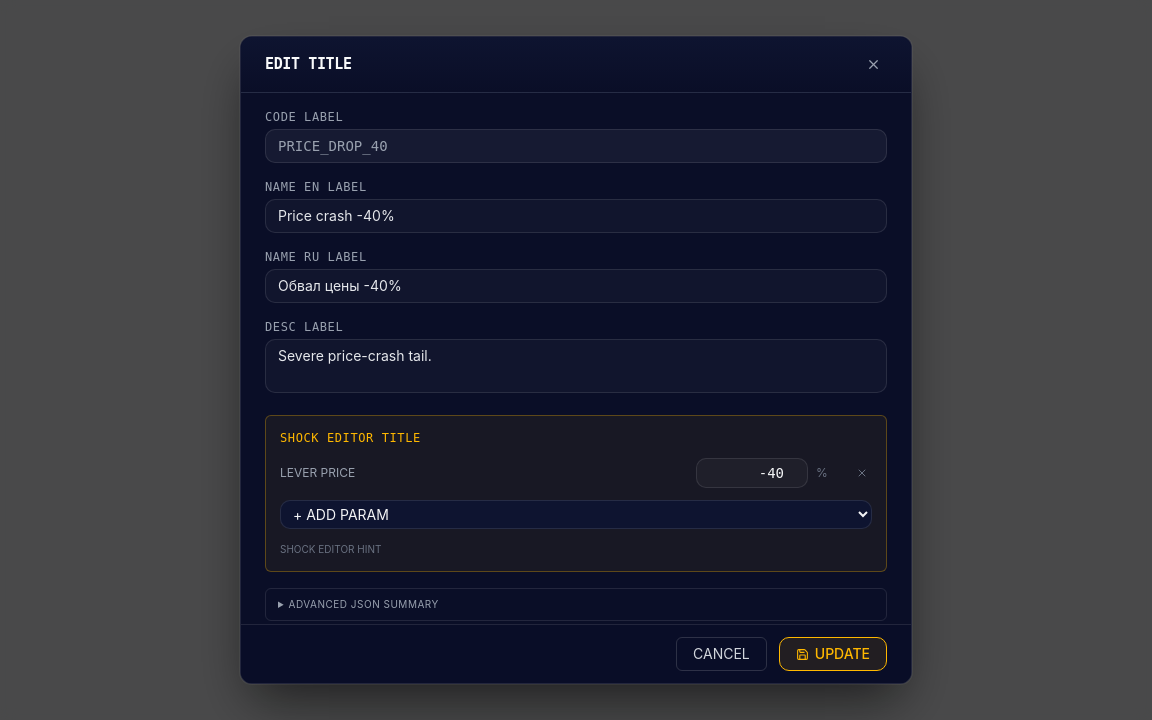
Test: ScenarioFormModal — shock scenarios are editable (bug fix) › Remove parameter deletes a lever from the JSON
The image size is (1152, 720).
Click the button with test id "shock-remove-priceShock" at (862, 473), box [852,463,872,483]
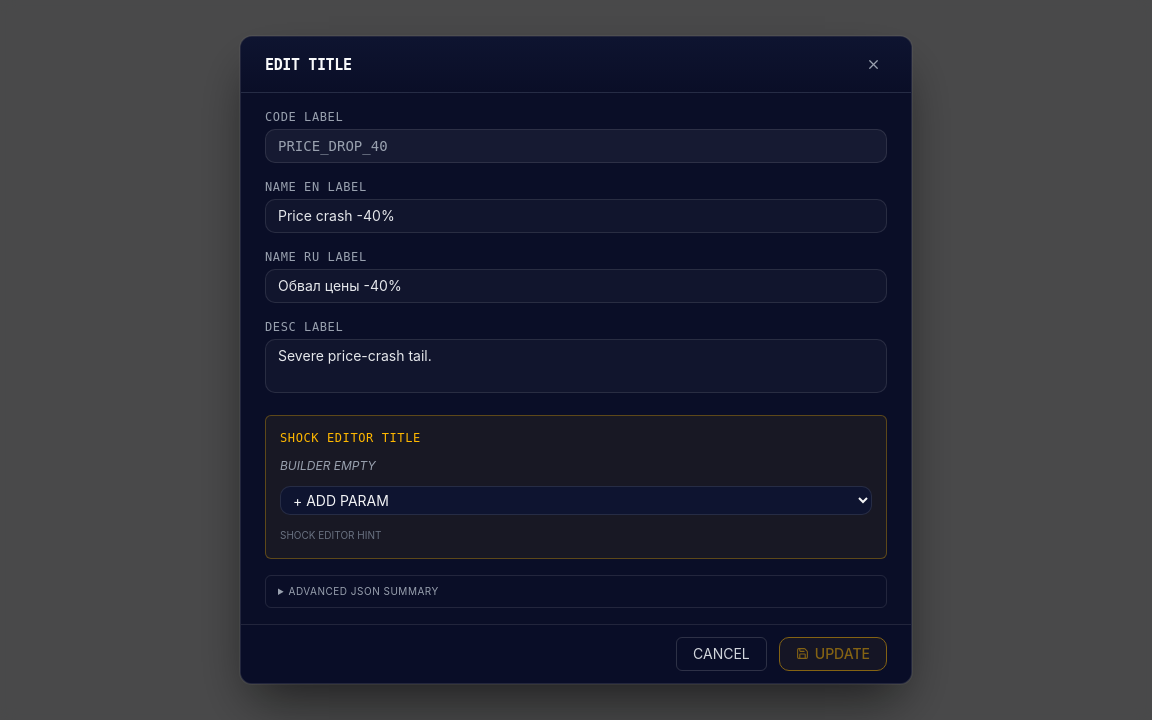
expect the button with test id "scenario-form-save" is disabled: met, box [779,637,887,671]
expect the text "BUILDER EMPTY" is shown: met, box [280,458,376,473]
